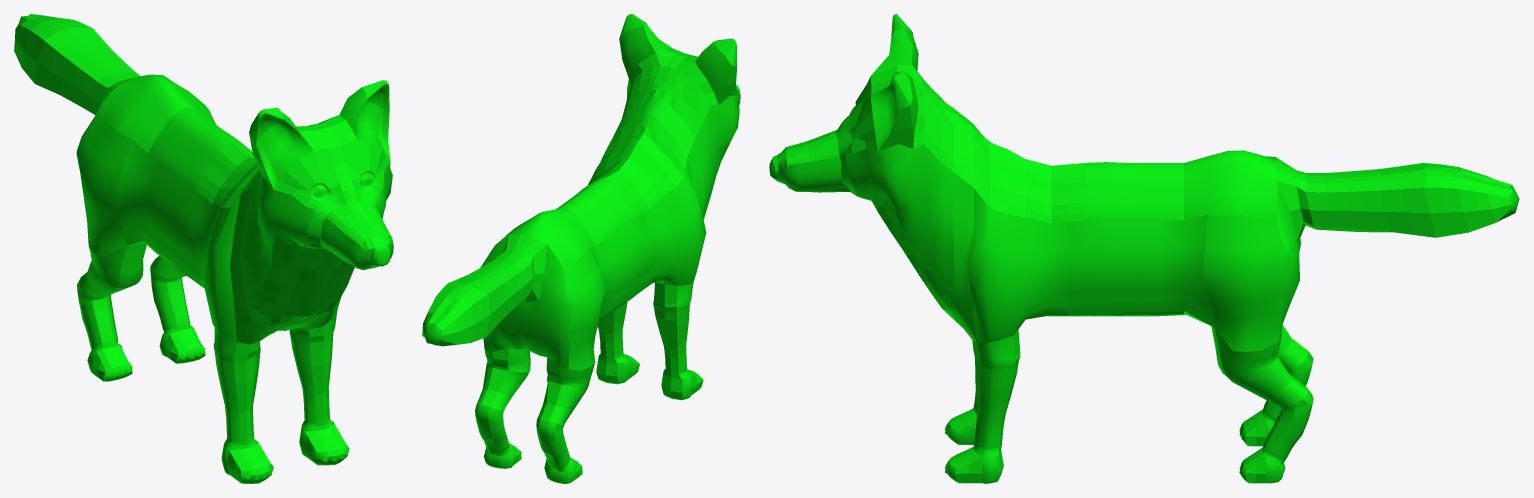
File: FoxUpdated(Reduced_Edges)1.fbx
3 views of the same model, side by side, from view 1: azimuth 30°, elevation 25°; view 2: azimuth 150°, elevation 25°; view 3: azimuth 270°, elevation 25° (orthographic). The views are drawn at different scales.
Parts seen in each view (by area): view 1: Fox; view 2: Fox; view 3: Fox.
Boxes of the visible parts, left/top/right/bottom form: Fox: left=14, top=14, right=393, bottom=483; Fox: left=422, top=14, right=740, bottom=483; Fox: left=769, top=14, right=1519, bottom=483.
Size of the model in its own units: 209 by 576 by 948.
